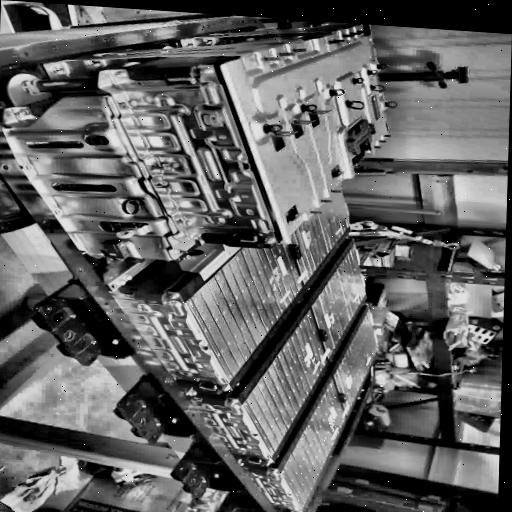battery_module: (183, 227, 302, 382), (241, 309, 331, 454), (279, 377, 348, 510), (282, 181, 350, 285), (308, 244, 364, 362), (331, 310, 379, 418)
nut: (343, 27, 367, 42), (259, 54, 282, 62), (290, 46, 310, 55), (275, 50, 297, 58), (330, 38, 343, 45), (308, 210, 324, 215), (330, 188, 343, 194), (319, 199, 333, 204), (381, 133, 393, 138), (377, 138, 386, 143), (373, 145, 381, 149)
